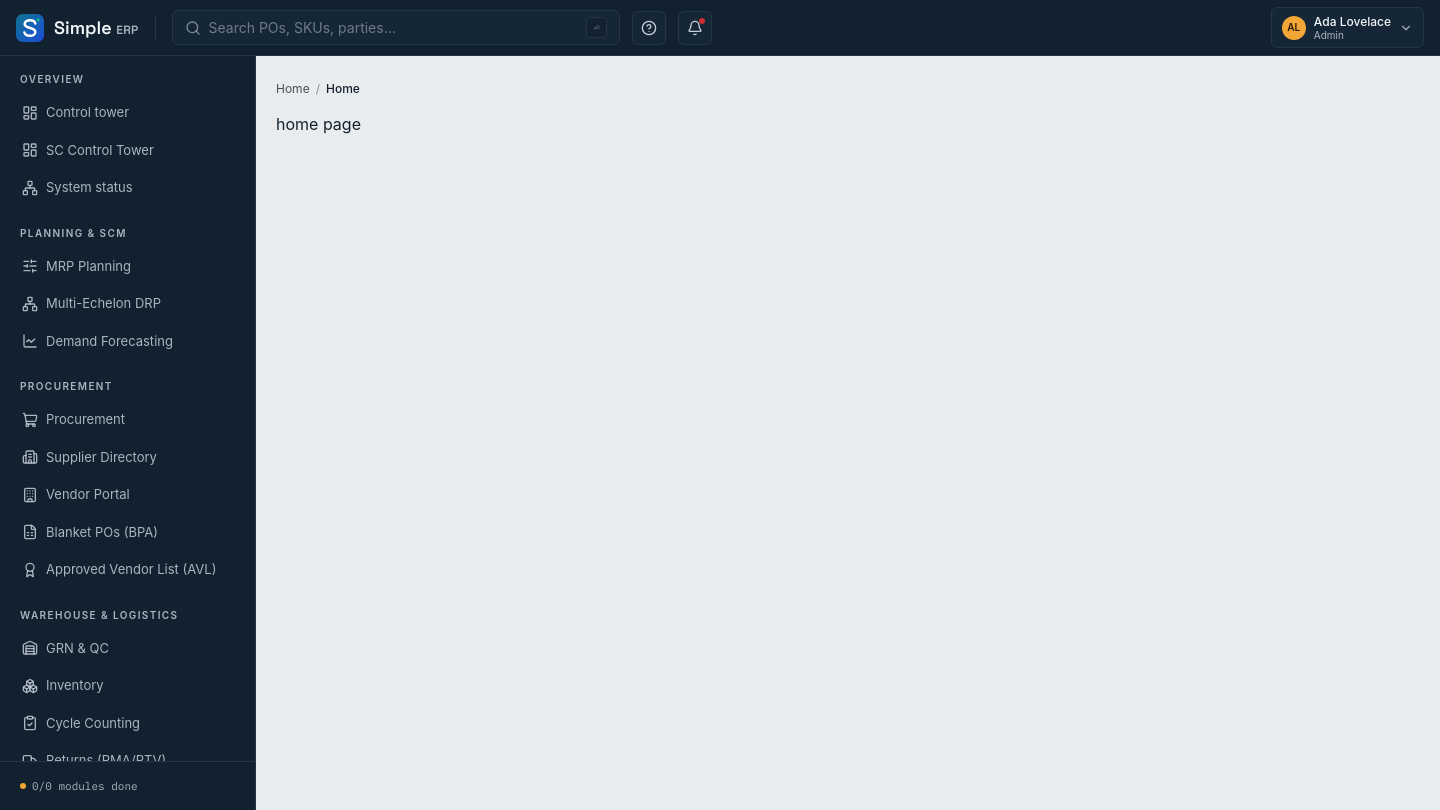
it: account menu › has no separate logout button; the user button opens Profile and Logout
Click the button with aria-label "Account" at (1347,28), box top-left (1271, 7), bottom-right (1424, 48)
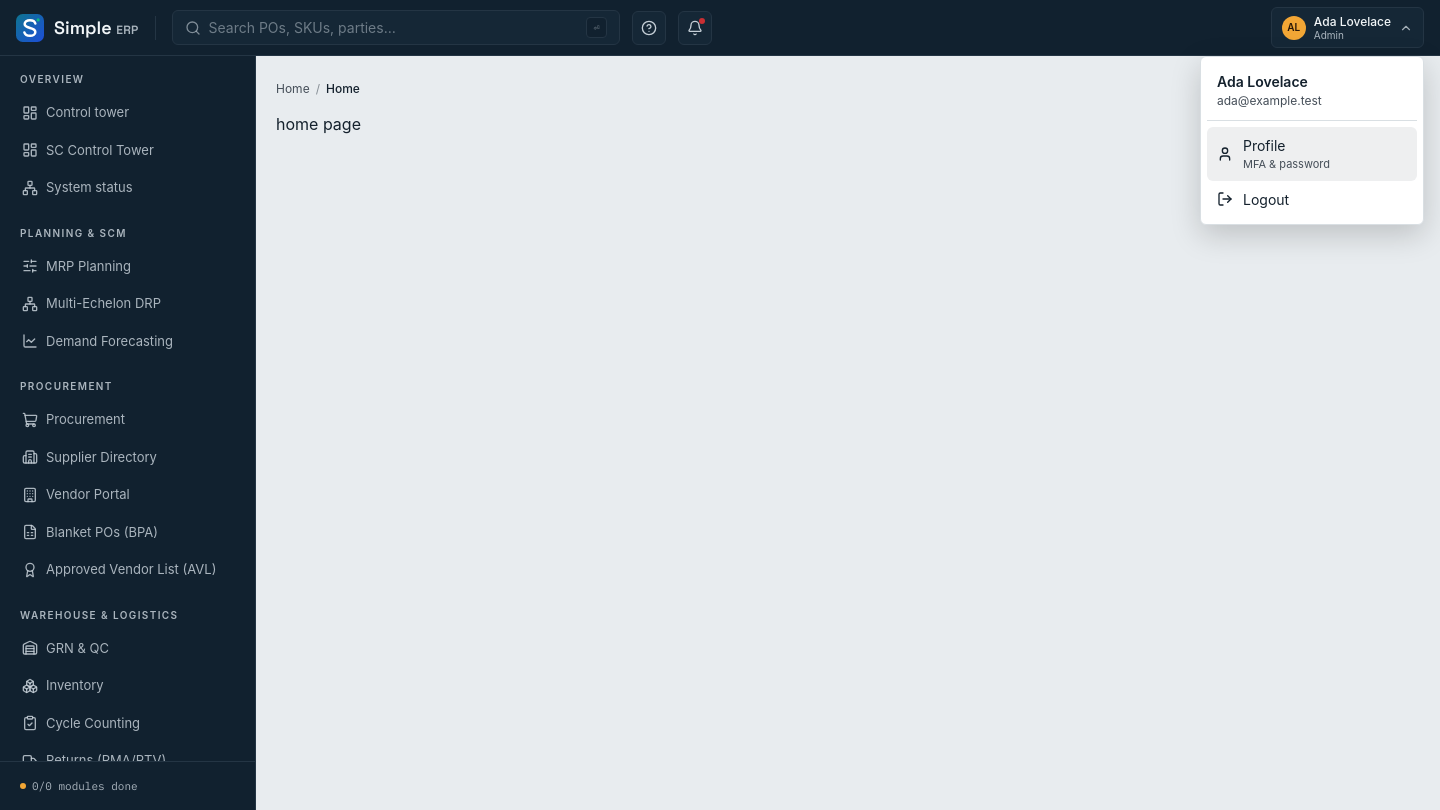
expect the menu items read "ProfileMFA & password", "Logout", in this order: met, box top-left (1207, 127), bottom-right (1417, 180); top-left (1207, 180), bottom-right (1417, 218)
